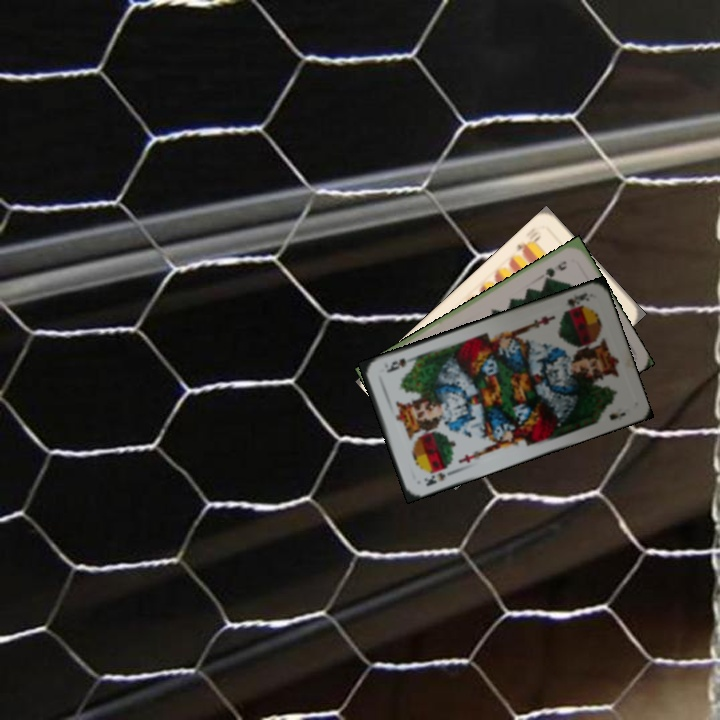E10: (512, 231, 544, 257)
G9: (540, 257, 569, 282)
SK: (420, 463, 456, 489), (559, 288, 592, 315)
